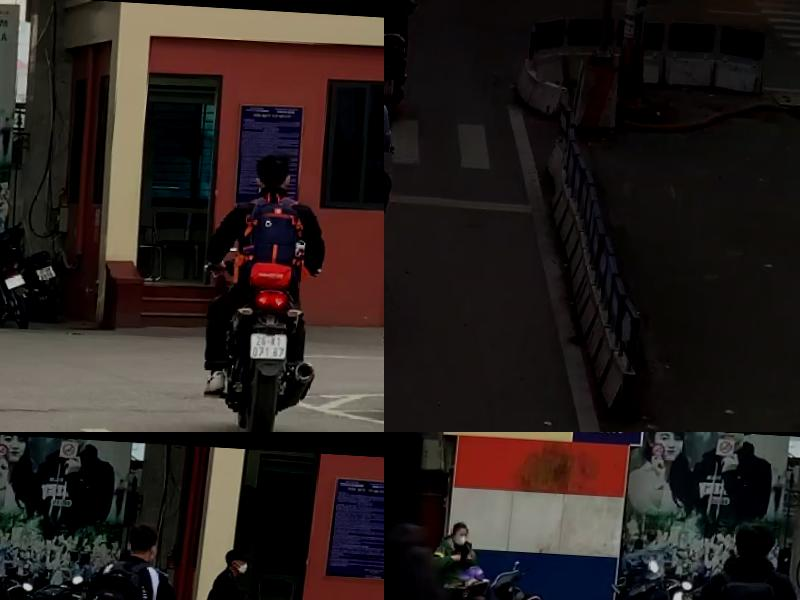license_plate: (254, 325, 298, 357), (39, 259, 63, 280), (9, 270, 32, 291), (384, 72, 398, 93)
motorcyclist: (193, 144, 343, 432), (661, 513, 800, 600), (68, 513, 201, 600), (384, 43, 410, 296), (384, 0, 421, 125)
